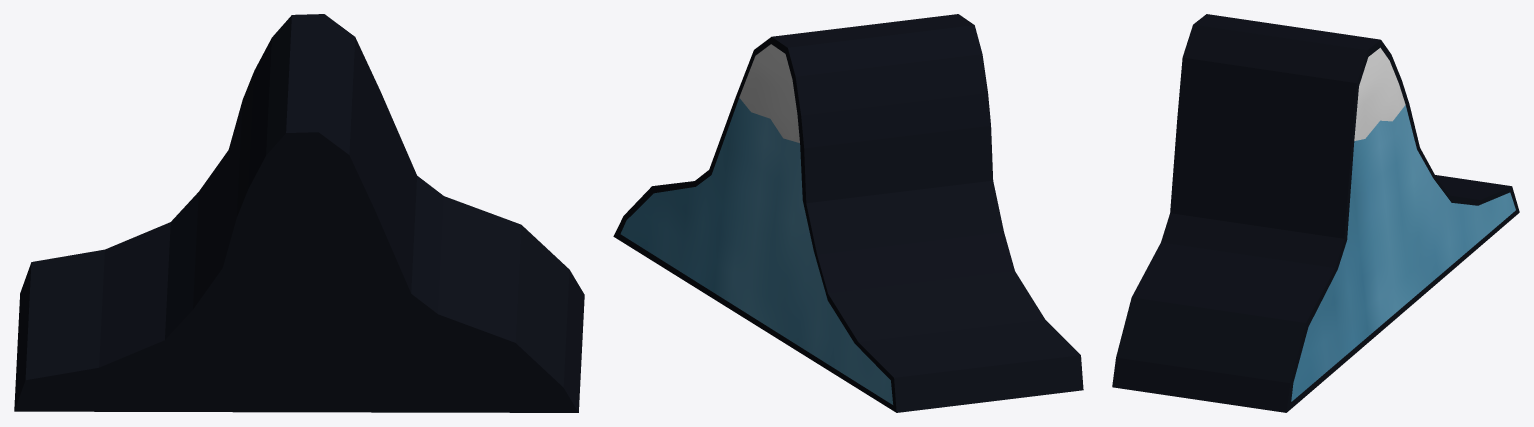
File: MOUNTAIN PIN.fbx
3 views of the same model, side by side, from view 1: azimuth 30°, elevation 25°; view 2: azimuth 150°, elevation 25°; view 3: azimuth 270°, elevation 25° (orthographic). The views are drawn at different scales.
Parts seen in each view (by area): view 1: MOUNTAIN_PIN; view 2: MOUNTAIN_PIN; view 3: MOUNTAIN_PIN.
Boxes of the visible parts, bbox=[...] form: MOUNTAIN_PIN: bbox=[14, 14, 584, 412]; MOUNTAIN_PIN: bbox=[613, 14, 1083, 412]; MOUNTAIN_PIN: bbox=[1112, 14, 1519, 412].
Bounding box in the file's own units: 8.47 × 4.85 × 6.21.
